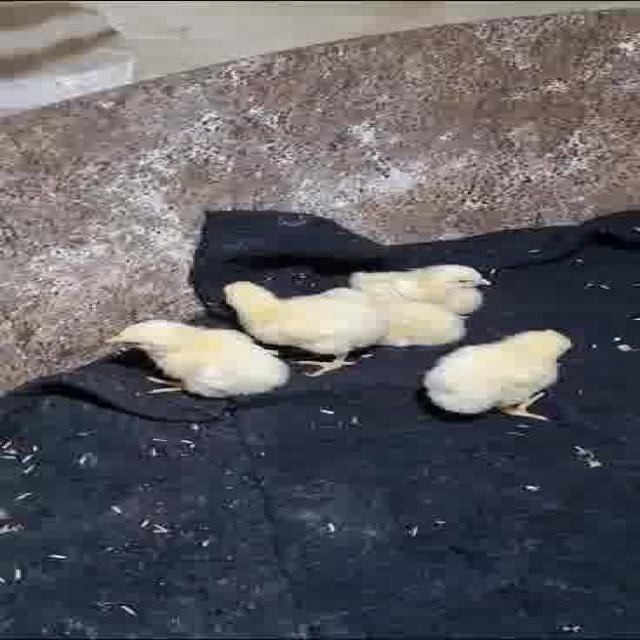poussin: (105, 316, 290, 405), (222, 279, 382, 374), (426, 329, 576, 426), (355, 259, 495, 349)
